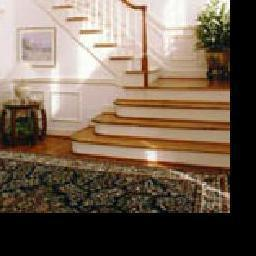Escaleras: (64, 52, 226, 163), (15, 0, 150, 88)
Matera: (198, 8, 226, 78)
